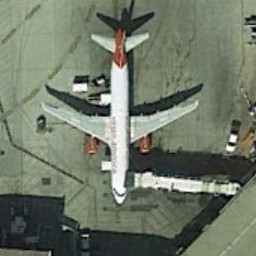Airplane: (35, 17, 202, 218)
